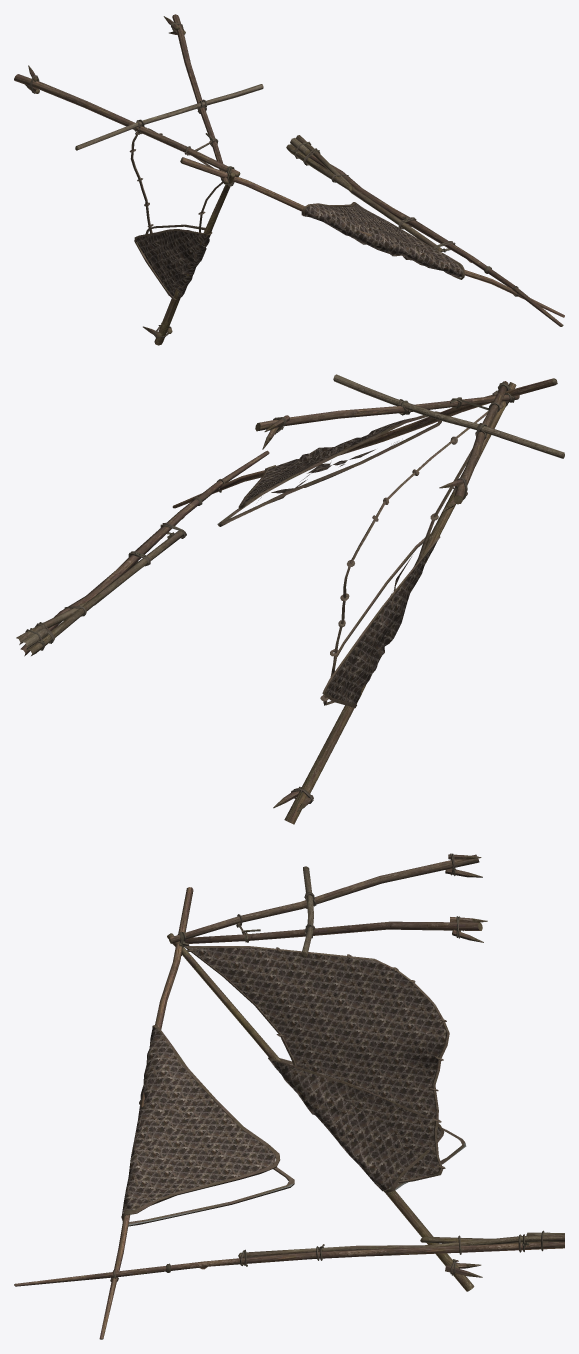
File: GEN_PRO_NetRack_01A_LOD0-transformed.glb
3 renders of one model, top to bottom at view 1: azimuth 30°, elevation 25°; view 2: azimuth 150°, elevation 25°; view 3: azimuth 270°, elevation 25°, orthographic. The views are drawn at different scales.
Parts seen in each view (by area): view 1: GEN_PRO_NetRack_01A_LOD0; view 2: GEN_PRO_NetRack_01A_LOD0; view 3: GEN_PRO_NetRack_01A_LOD0.
Part boxes in pixels (bbox=[...]): GEN_PRO_NetRack_01A_LOD0: bbox=[14, 14, 564, 345]; GEN_PRO_NetRack_01A_LOD0: bbox=[16, 374, 564, 824]; GEN_PRO_NetRack_01A_LOD0: bbox=[14, 853, 564, 1339].
Bounding box in the file's own units: 0.1097 × 0.084 × 0.1101.
3 materials, 3 textured.
